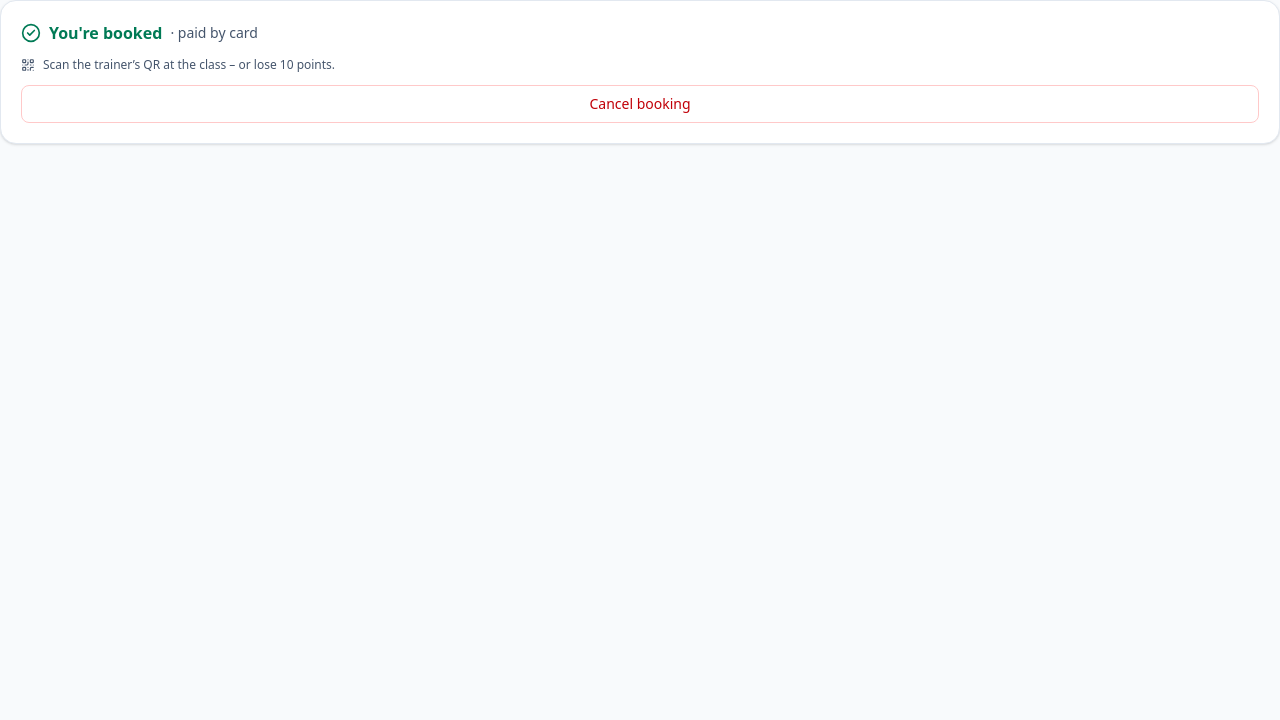
Test: BookingPanel › paid booking: cancelling warns about the refund and reports it
This screenshot has width=1280, height=720.
Later steps or results of the test are not shown.
Expected: the text "· paid by card" is shown, [170,23,258,43]
Click the button "Cancel booking" at (640, 104), box [21,85,1259,123]
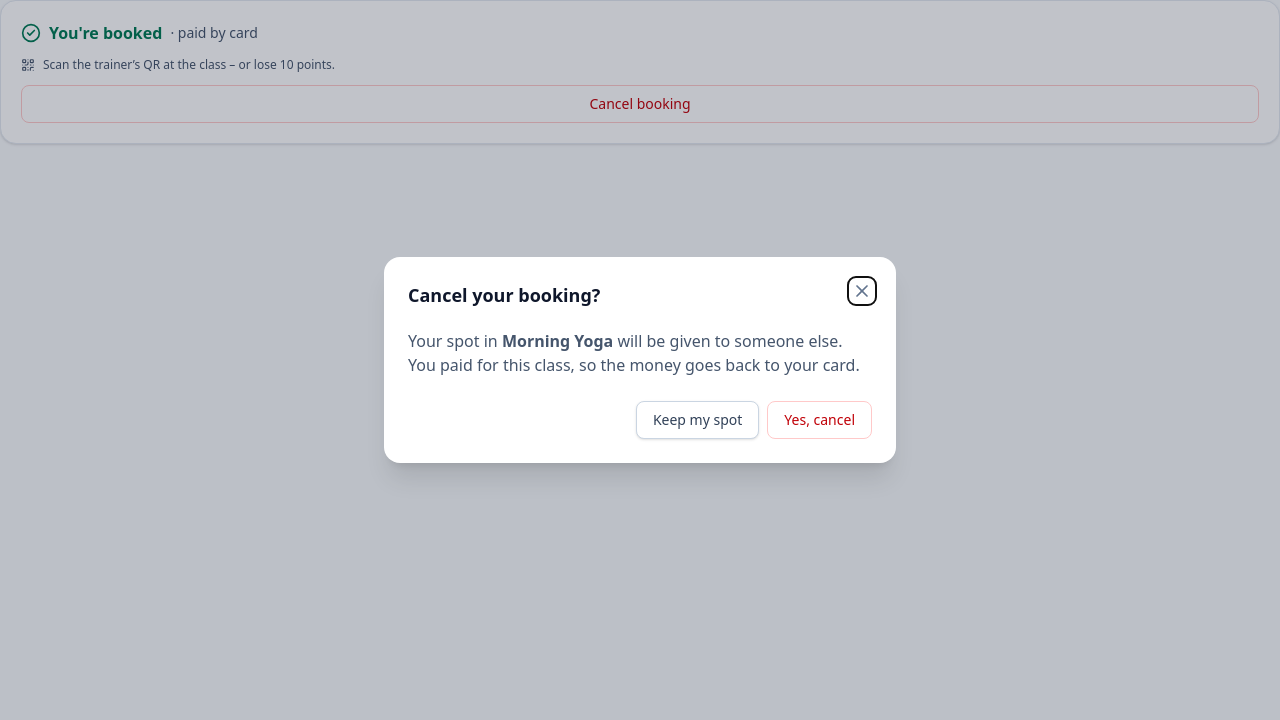
Expected: the text "the money goes back to your card" is shown, [408,354,860,376]
